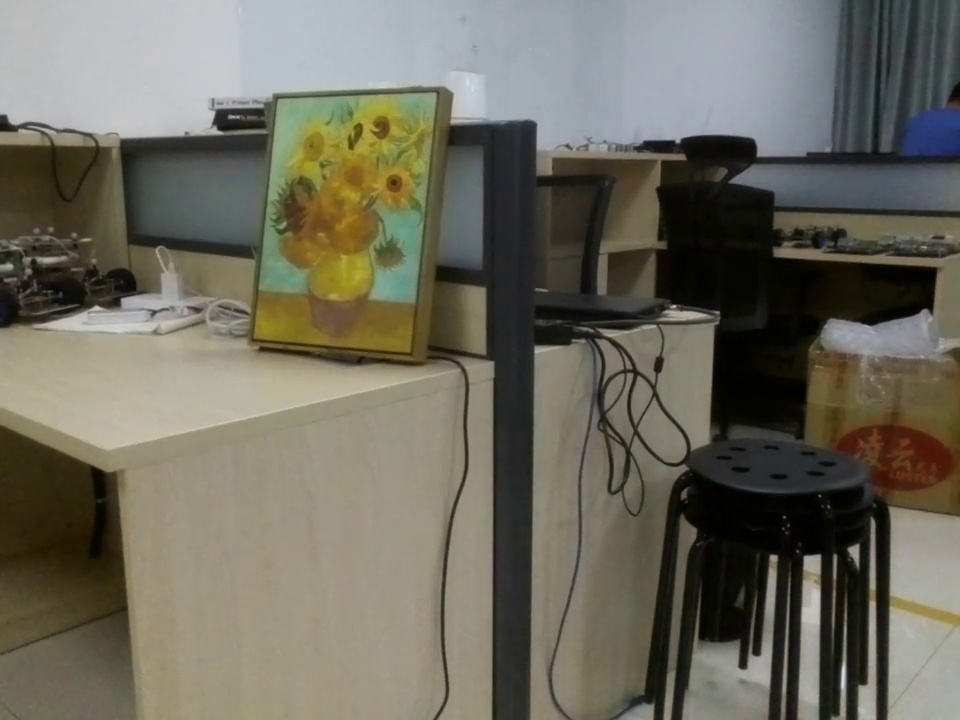painting: (250, 88, 459, 364)
